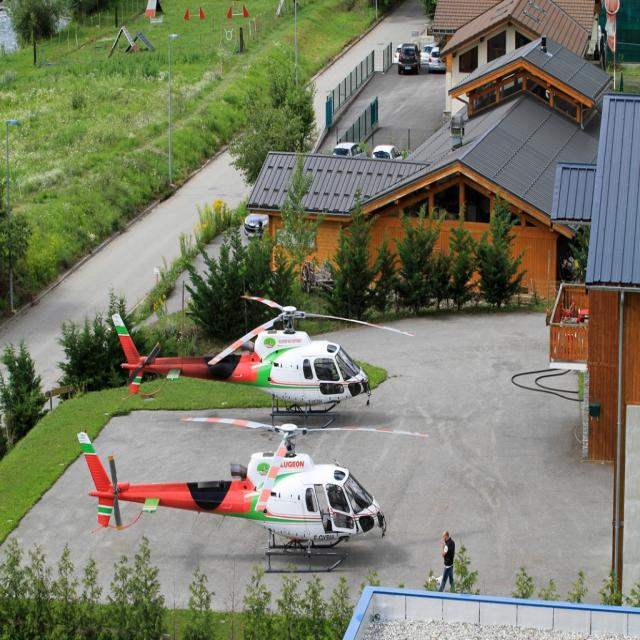helicopter: (68, 406, 443, 590), (102, 282, 407, 430)
